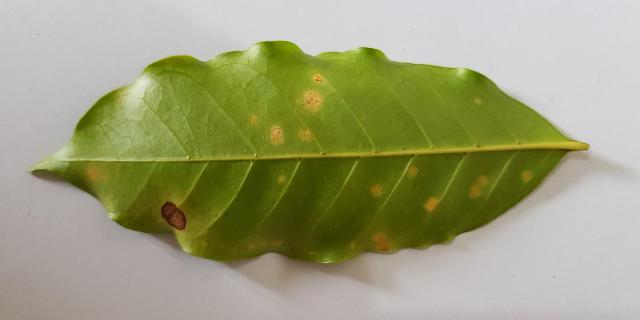miner: (161, 202, 186, 230), (298, 89, 324, 111), (469, 176, 488, 197), (372, 233, 392, 251), (268, 125, 284, 145), (424, 197, 442, 212), (298, 128, 312, 141), (311, 72, 326, 84), (86, 168, 98, 180), (522, 171, 532, 181), (372, 185, 381, 195), (408, 167, 416, 176), (251, 115, 257, 125)
